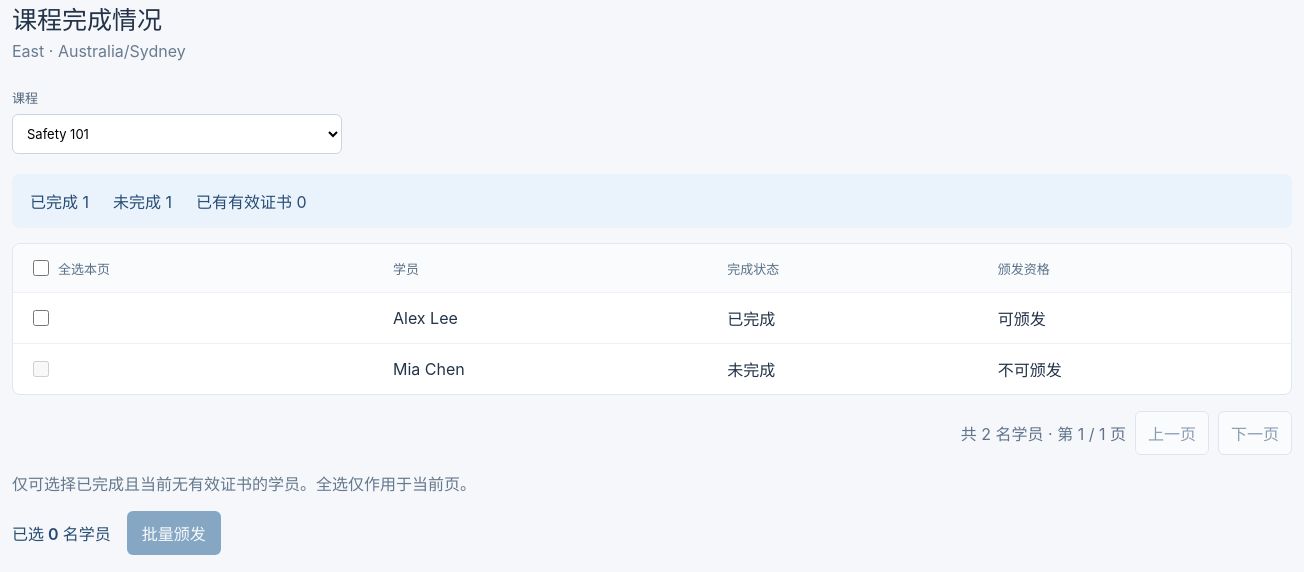
Test: clears the previous course learners when the selection changes
The width and height of the screenshot is (1304, 572).
Expected: the text "Alex Lee" is shown, [377,292,711,344]
Click the checkbox named "选择 Alex Lee": click(41, 318) [33,310,49,326]
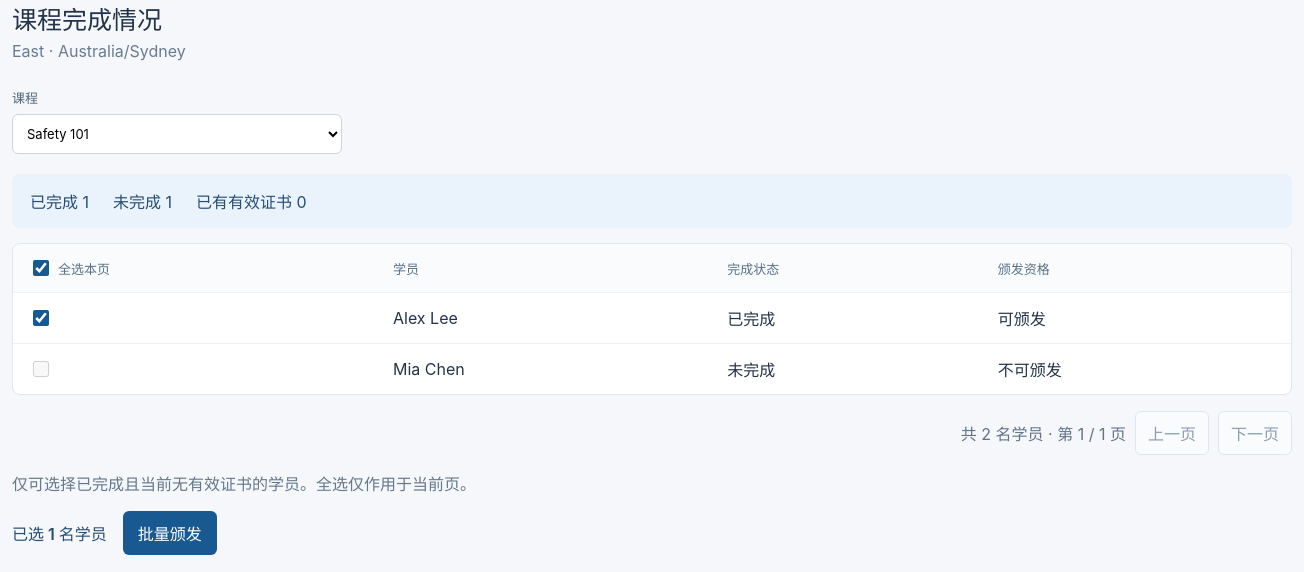
Now the text "已选 1 名学员" is shown, box [12,521,107,545]
Select "First Aid" in the dropdown labelled "课程": (177, 134) [12,114,342,154]
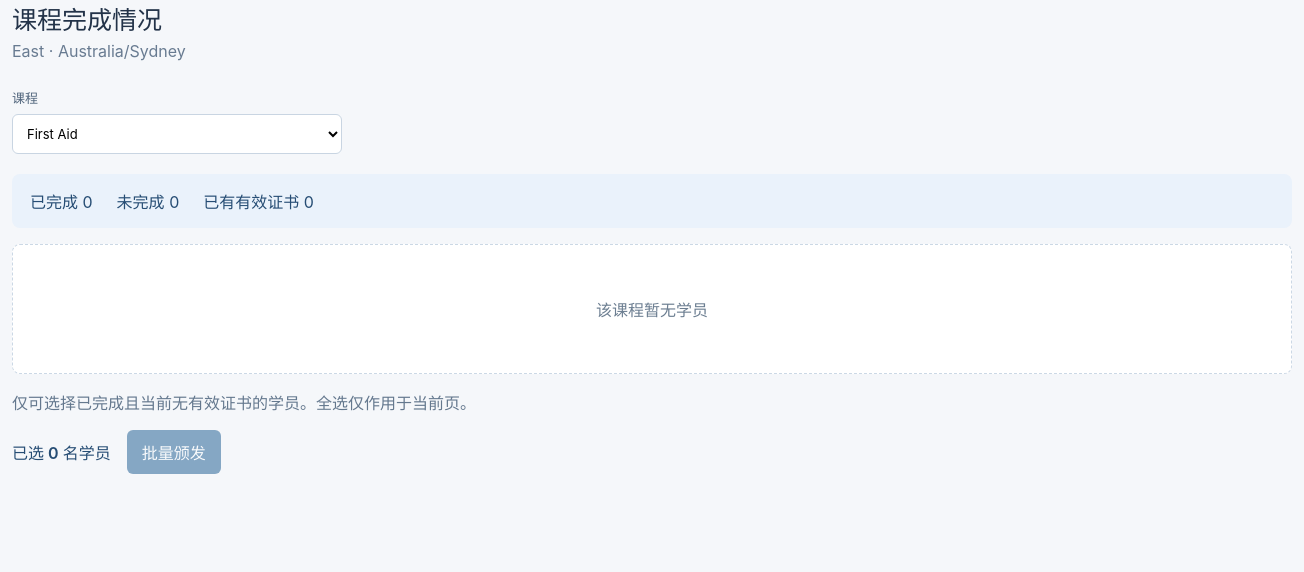
Now the text "Alex Lee" is gone
Now the text "该课程暂无学员" is shown, box [12,244,1292,374]
Now the text "已选 0 名学员" is shown, box [12,440,111,464]
